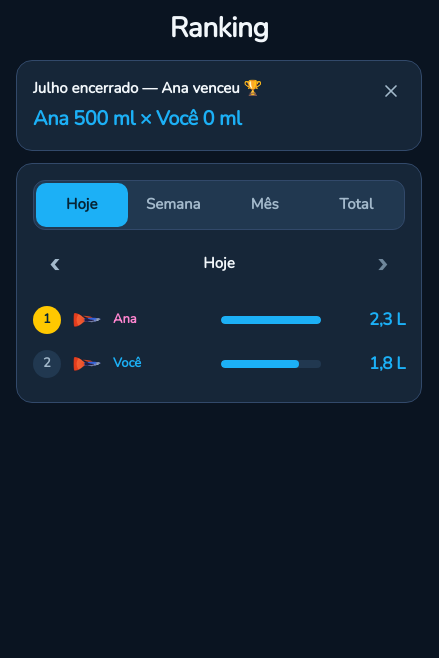
it: Ranking › hides the comparison card on an empty period
The width and height of the screenshot is (439, 658).
Step 1. Click the button "Semana" → (173, 204), box [128, 182, 219, 226]
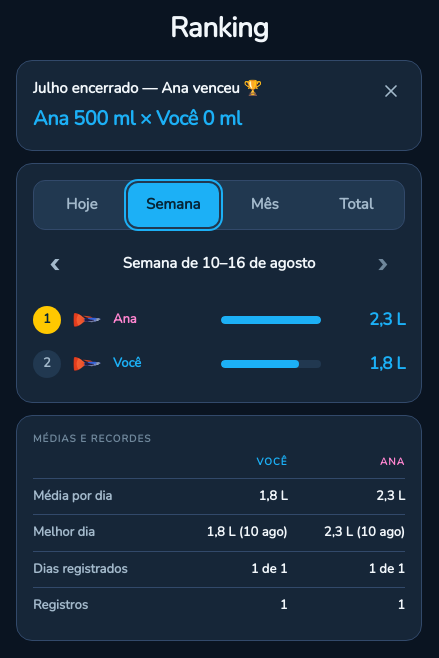
Expected: the heading "Médias e recordes" is shown, [33, 432, 151, 446]
Step 2. Click the button named "Período anterior" → (55, 264), box [33, 242, 77, 286]
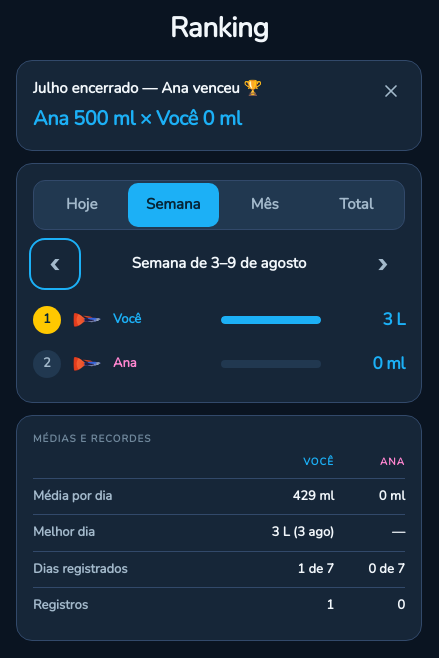
Step 3. Click the button named "Período anterior" → (55, 264), box [33, 242, 77, 286]
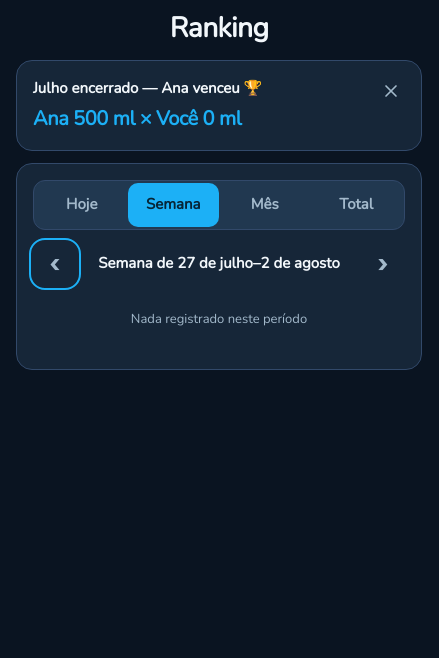
Expected: the text "Nada registrado neste período" is shown, [131, 310, 307, 328]
Expected: the heading "Médias e recordes" is gone
